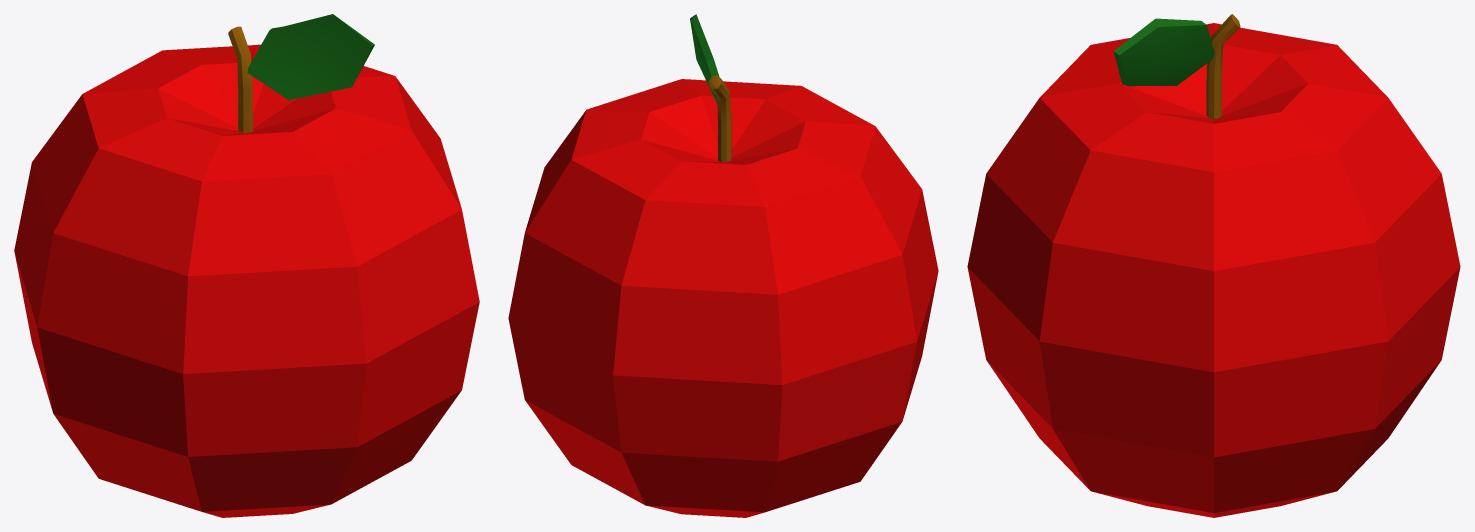
File: apple.fbx
3 renders of one model, left to right at view 1: azimuth 30°, elevation 25°; view 2: azimuth 150°, elevation 25°; view 3: azimuth 270°, elevation 25°, orthographic. The views are drawn at different scales.
Parts seen in each view (by area): view 1: office_stuff:pSphere2, office_stuff:pCylinder31, office_stuff:pCylinder30; view 2: office_stuff:pSphere2, office_stuff:pCylinder30, office_stuff:pCylinder31; view 3: office_stuff:pSphere2, office_stuff:pCylinder31, office_stuff:pCylinder30.
Part boxes in pixels (x1,y1,x2,y2): office_stuff:pSphere2: [14, 44, 479, 517]; office_stuff:pCylinder31: [247, 14, 374, 99]; office_stuff:pCylinder30: [228, 26, 252, 132]; office_stuff:pSphere2: [508, 79, 938, 517]; office_stuff:pCylinder30: [709, 75, 731, 162]; office_stuff:pCylinder31: [690, 14, 719, 102]; office_stuff:pSphere2: [967, 23, 1460, 517]; office_stuff:pCylinder31: [1113, 18, 1214, 86]; office_stuff:pCylinder30: [1206, 14, 1240, 118].
Size of the model in its own units: 1.81 by 1.95 by 1.79.
